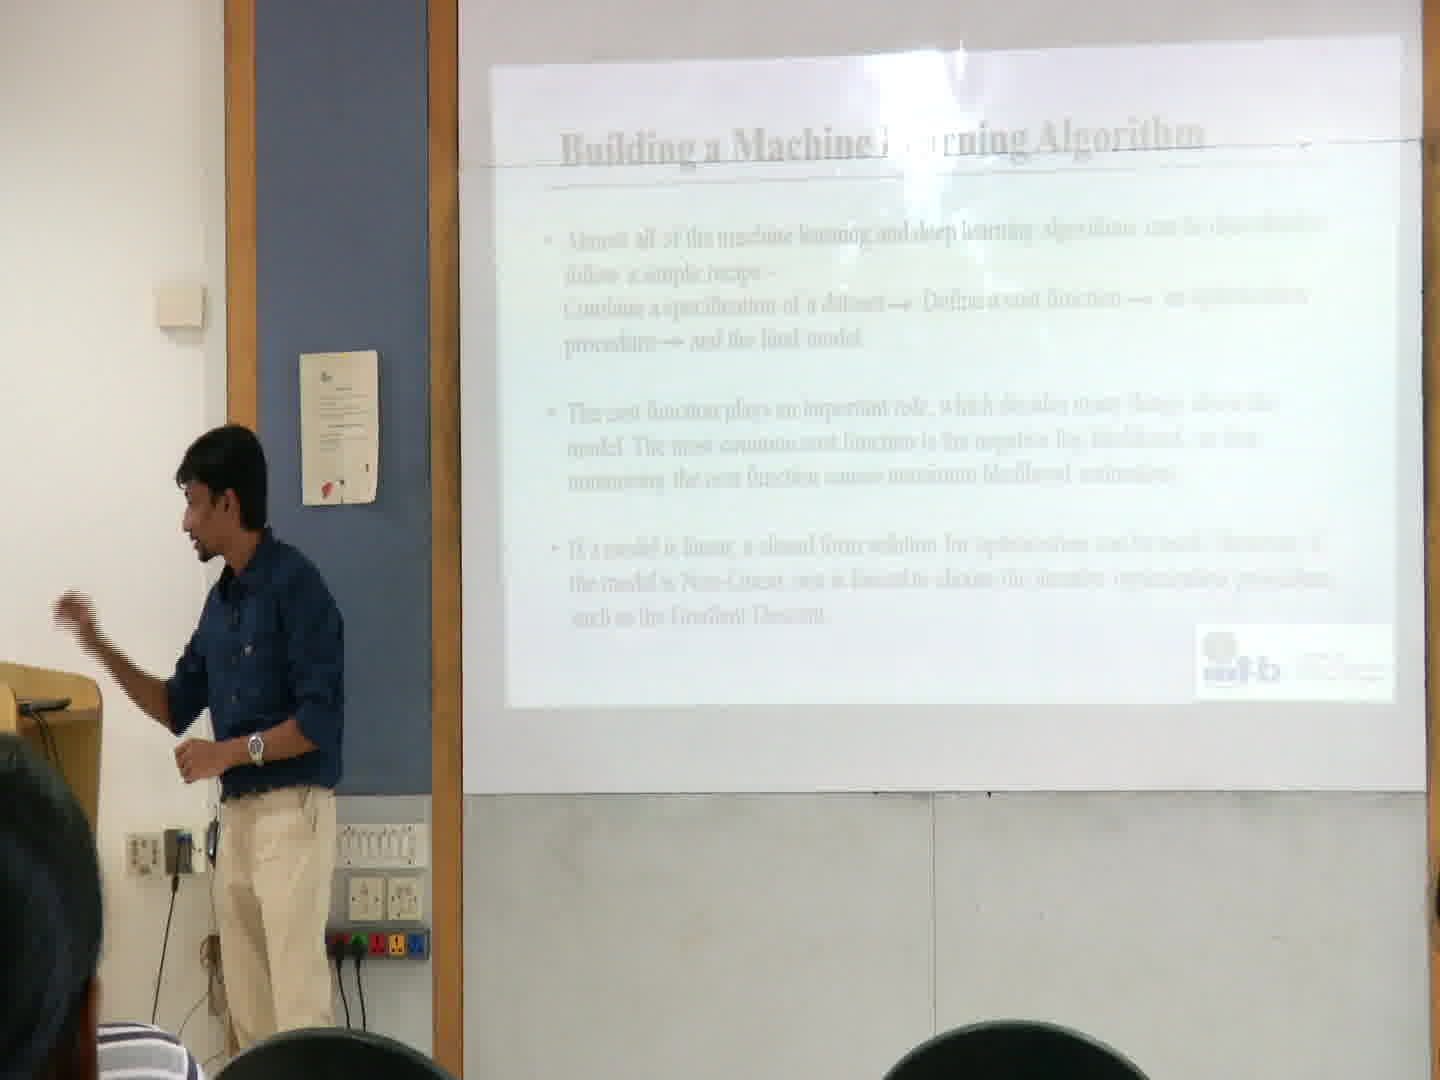slide: (491, 35, 1399, 703)
